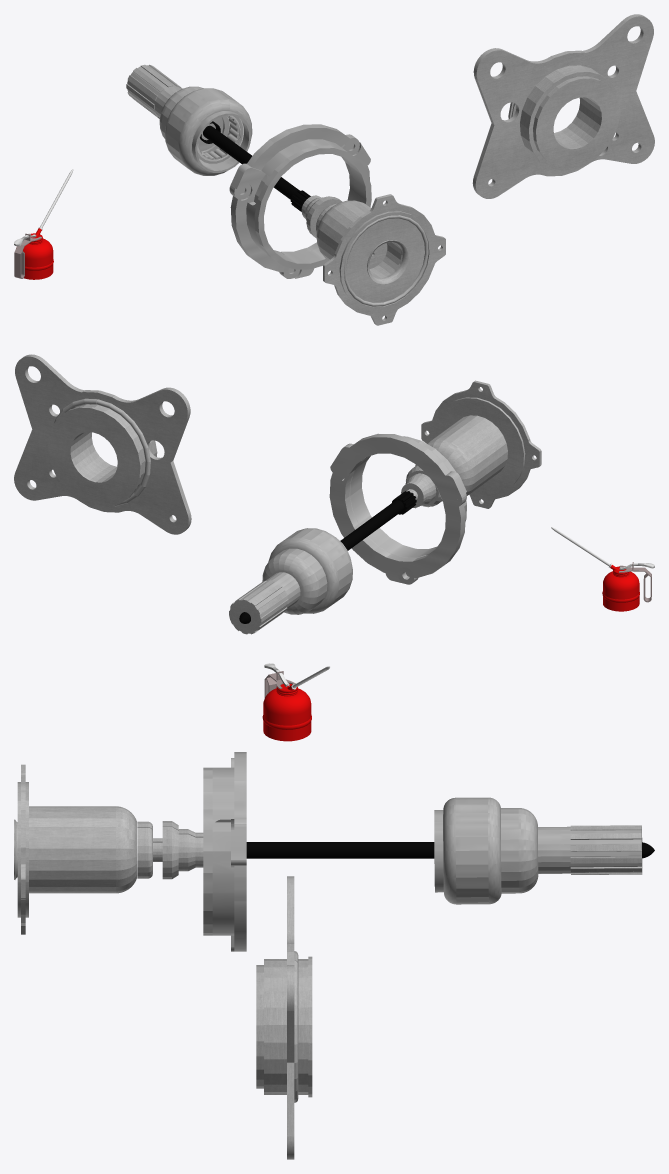
The picture shows the model from 3 angles, top to bottom: view 1: azimuth 30°, elevation 25°; view 2: azimuth 150°, elevation 25°; view 3: azimuth 270°, elevation 25°; orthographic projection. The views are drawn at different scales.
Parts seen in each view (by area): view 1: 1.008, slongsong, 1.001, 1.003, Oiler, 1.002; view 2: 1.008, slongsong, 1.001, 1.003, Oiler; view 3: slongsong, 1.003, 1.008, 1.001, Oiler.
Boxes of the visible parts, x1,y1,x2,y2 form: 1.008: [472, 14, 654, 198]; slongsong: [200, 121, 445, 325]; 1.001: [229, 124, 371, 278]; 1.003: [126, 64, 252, 175]; Oiler: [14, 169, 73, 279]; 1.002: [197, 115, 242, 163]; 1.008: [14, 354, 191, 534]; slongsong: [239, 380, 541, 623]; 1.001: [329, 433, 466, 584]; 1.003: [229, 528, 352, 634]; Oiler: [551, 527, 654, 611]; slongsong: [14, 764, 654, 934]; 1.003: [434, 797, 642, 904]; 1.008: [256, 876, 312, 1159]; 1.001: [203, 752, 246, 951]; Oiler: [262, 663, 330, 741].
Size of the model in its own units: 1373 by 321 by 921.
17 materials, 9 textured.
